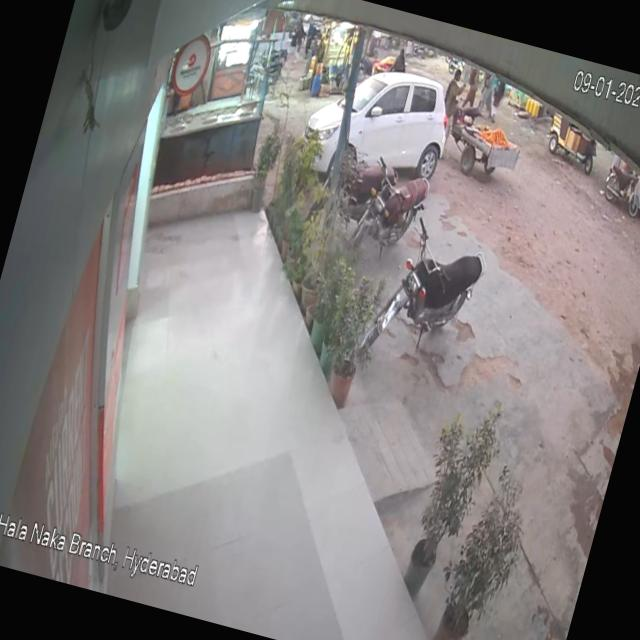Motorcycle: (356, 200, 504, 383), (354, 154, 439, 259), (596, 157, 640, 221)
